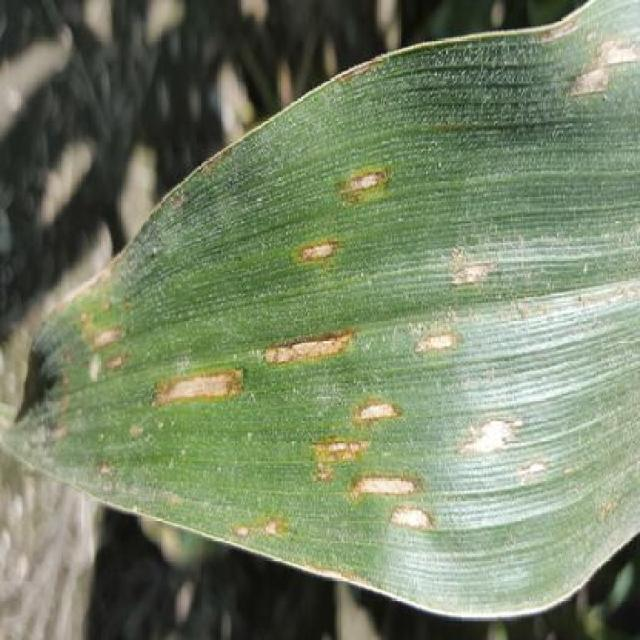Corn_Grey_Leaf_Spot: (93, 79, 630, 583)
